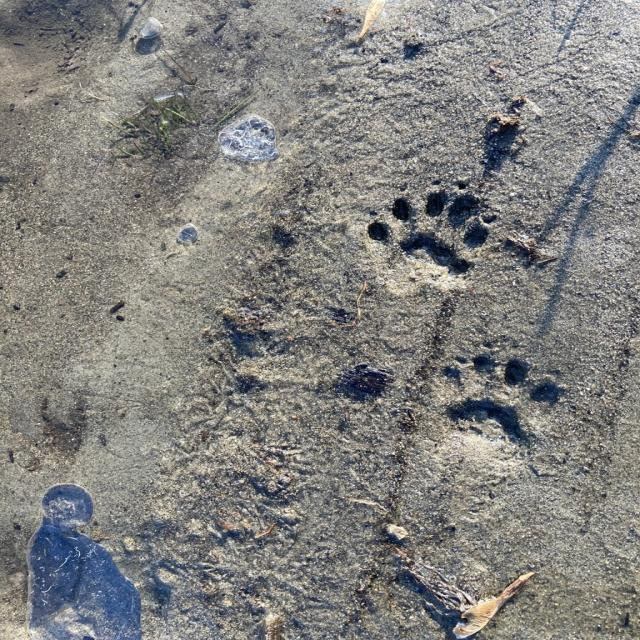mustelid: (443, 353, 565, 466), (367, 188, 493, 292)
